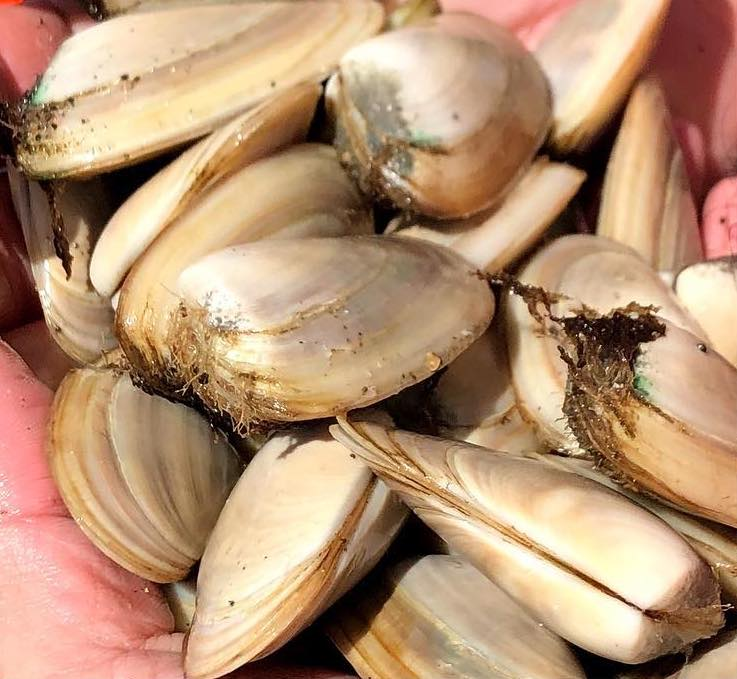tuatua: (337, 413, 737, 666), (14, 1, 388, 184), (179, 229, 491, 414), (188, 419, 394, 670), (328, 9, 547, 217), (578, 302, 737, 514)
